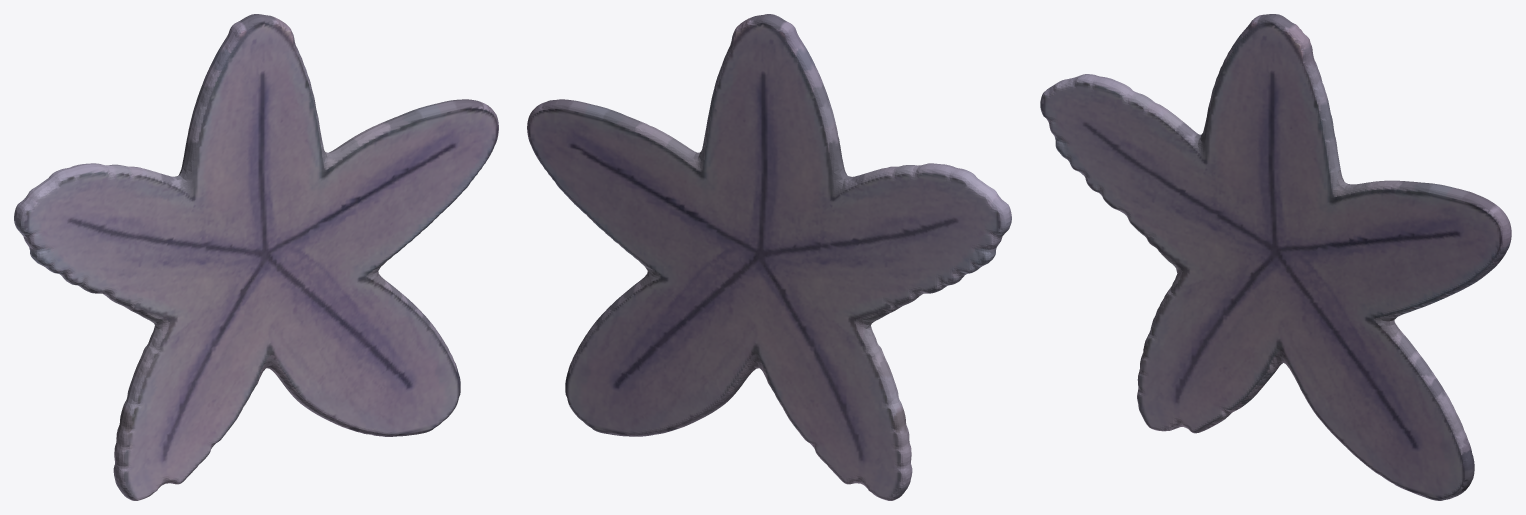
File: starfish.gltf
The picture shows the model from 3 angles, left to right: view 1: azimuth 30°, elevation 25°; view 2: azimuth 150°, elevation 25°; view 3: azimuth 330°, elevation 25°; orthographic projection. The views are drawn at different scales.
Size of the model in its own units: 0.286 by 0.2593 by 0.00997.
